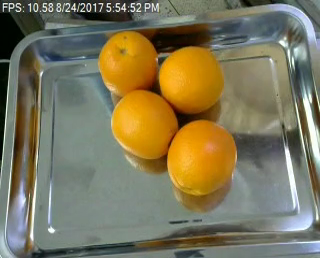Orange: (166, 117, 238, 196), (109, 88, 179, 159), (158, 46, 226, 114), (97, 30, 158, 97)
